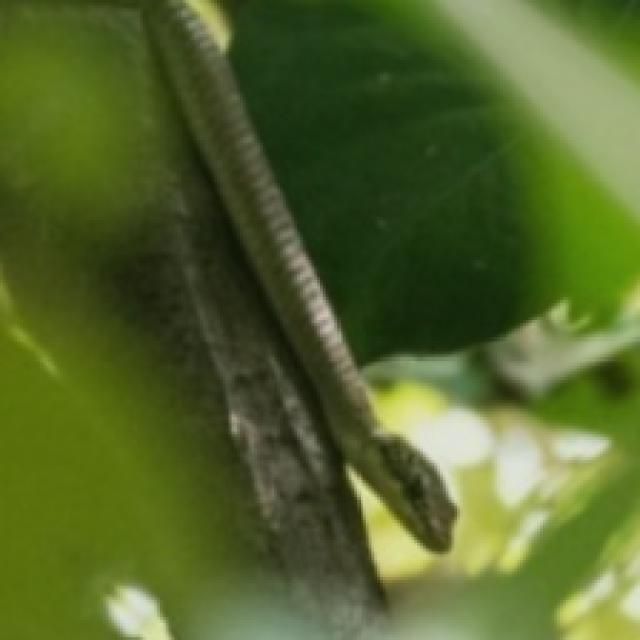paradise tree snake: (143, 0, 454, 549), (146, 0, 454, 549)
